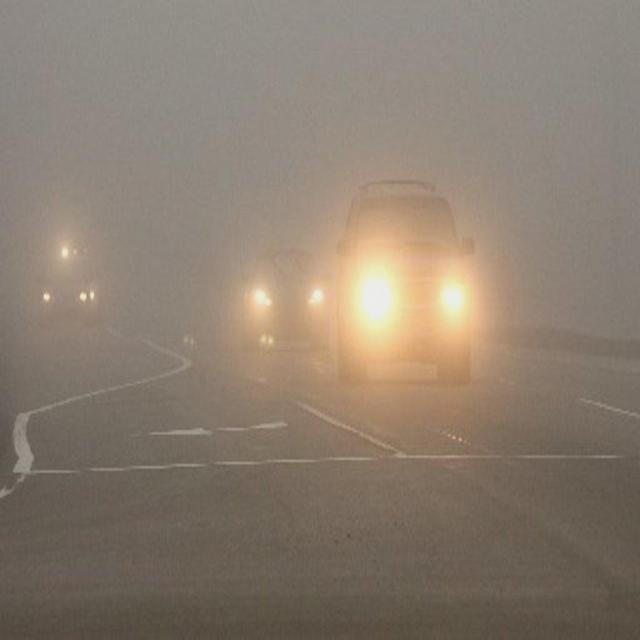Car: (332, 176, 481, 393), (241, 240, 335, 371), (38, 261, 88, 330), (178, 332, 200, 348)
